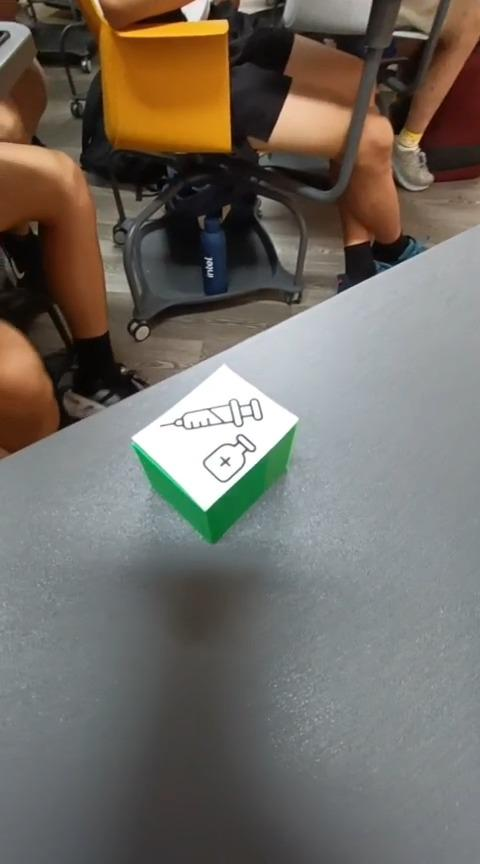antiseptic cream: (129, 361, 299, 544)
